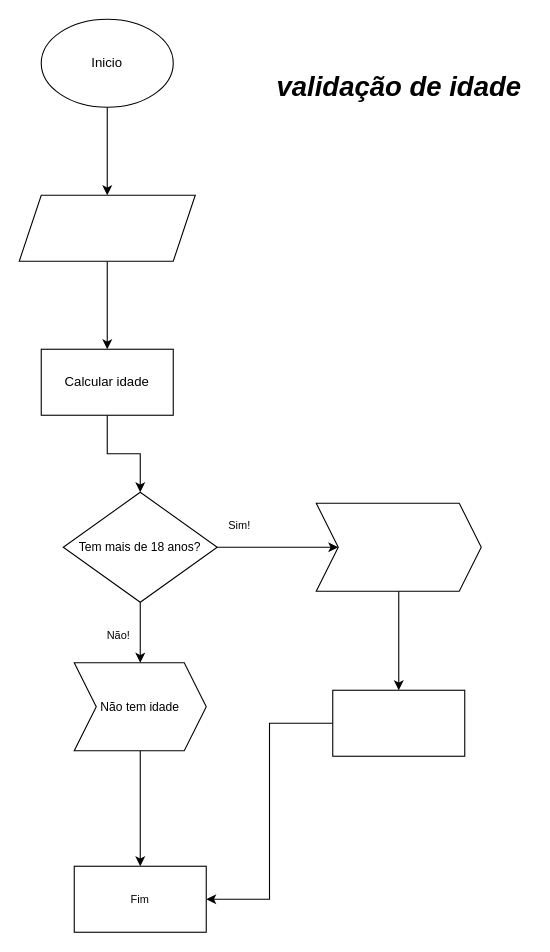
Some shapes in this 550 by 952 pixel diagram are drawn without their labels. Each missing label, with the box of its shape:
Colocar a idade atual Juntar informações com o ano atua l: (18, 194, 195, 261)
Permitir entrada: (332, 689, 465, 756)
Tem 18 anos ou mais?: (315, 502, 481, 591)
